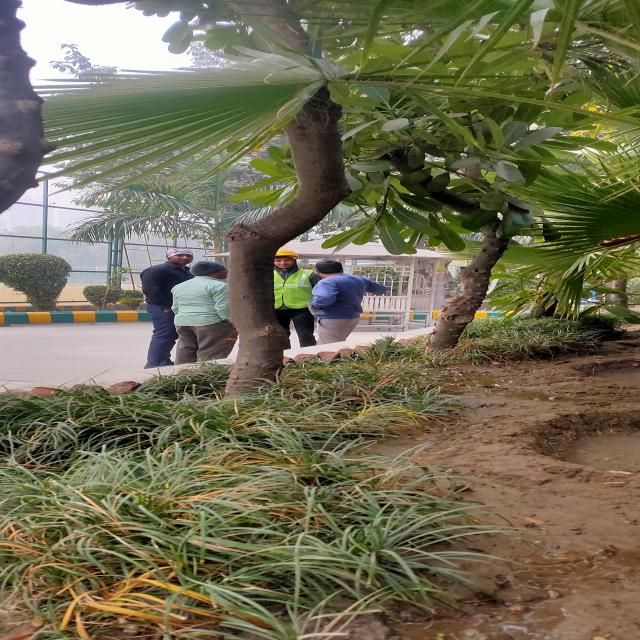safe: (270, 252, 314, 346)
unsafe: (173, 259, 237, 364), (143, 252, 188, 370), (310, 260, 364, 347)
